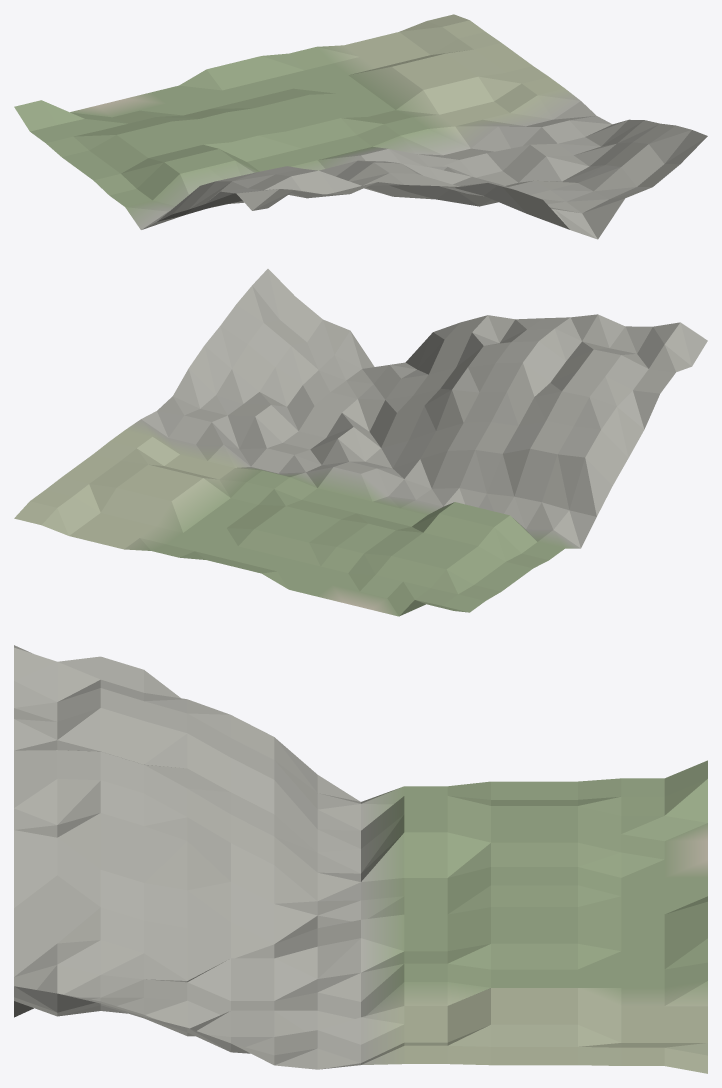
The picture shows the model from 3 angles, top to bottom: view 1: azimuth 30°, elevation 25°; view 2: azimuth 150°, elevation 25°; view 3: azimuth 270°, elevation 25°; orthographic projection. The views are drawn at different scales.
Size of the model in its own units: 32 by 8.79 by 32.
